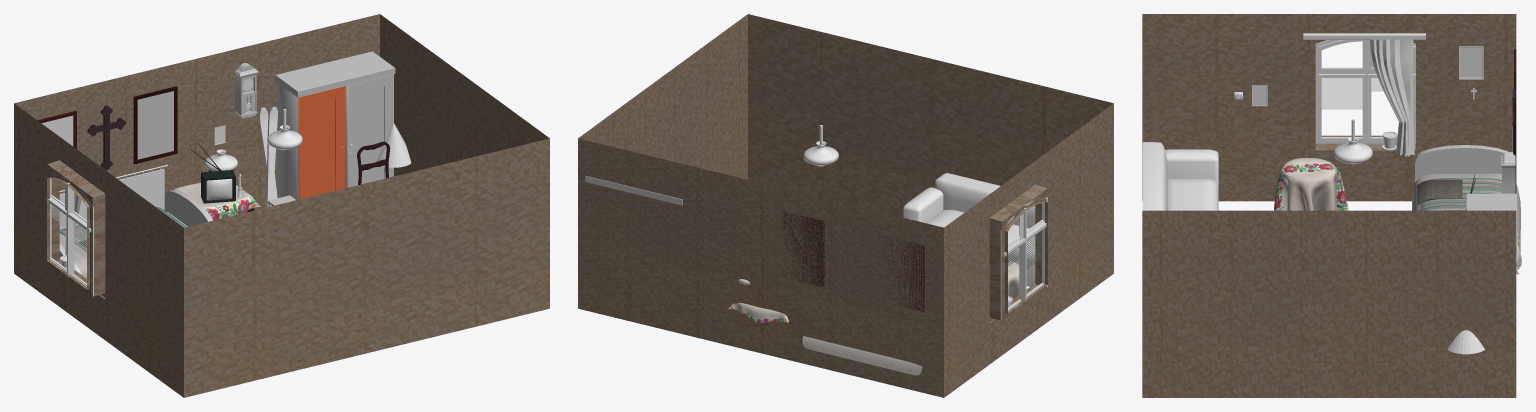
File: mieszkanie_v6.fbx
3 renders of one model, left to right at view 1: azimuth 30°, elevation 25°; view 2: azimuth 150°, elevation 25°; view 3: azimuth 270°, elevation 25°, orthographic. The views are drawn at different scales.
Parts seen in each view (by area): view 1: sciany, drzwiszafy, drzwiszafy2, sciany.002, szafa, Cube.016, szafa2, Cube.010, Cube.008, obrus2, narty, okno (+11 smaller); view 2: sciany, sofa, sciany.002, Cube.004, narzuta, Cube.015, okno, obrus2, szafa, Cube.030, Cylinder.007; view 3: sciany, sofa, firanka, obrus, okno, Cube.008, Cube.032, Cube.017, szafa, Plane.002, Cube.005, narzuta (+6 smaller).
Part boxes in pixels (<box>): sciany: <box>14,14,549,397</box>; drzwiszafy: <box>298,86,345,199</box>; drzwiszafy2: <box>346,74,393,187</box>; sciany.002: <box>47,160,105,296</box>; szafa: <box>275,51,395,97</box>; Cube.016: <box>137,91,173,159</box>; szafa2: <box>277,83,298,199</box>; Cube.010: <box>59,169,164,229</box>; Cube.008: <box>59,190,213,259</box>; obrus2: <box>174,182,260,220</box>; narty: <box>258,107,277,207</box>; okno: <box>47,174,93,296</box>; sciany: <box>578,14,1113,397</box>; sofa: <box>903,173,1035,286</box>; sciany.002: <box>989,184,1047,320</box>; Cube.004: <box>781,211,824,287</box>; narzuta: <box>802,336,922,375</box>; Cube.015: <box>882,237,924,312</box>; okno: <box>1000,197,1047,320</box>; obrus2: <box>728,302,788,322</box>; szafa: <box>585,176,682,205</box>; Cube.030: <box>1003,207,1046,301</box>; Cylinder.007: <box>803,141,838,165</box>; sciany: <box>1142,14,1516,397</box>; sofa: <box>1142,142,1218,210</box>; firanka: <box>1369,39,1414,156</box>; obrus: <box>1274,158,1348,210</box>; okno: <box>1315,40,1415,143</box>; Cube.008: <box>1414,145,1508,183</box>; Cube.032: <box>1321,78,1362,109</box>; Cube.017: <box>1420,178,1501,210</box>; szafa: <box>1466,193,1516,252</box>; Plane.002: <box>1417,179,1462,204</box>; Cube.005: <box>1303,33,1425,39</box>; narzuta: <box>1412,173,1520,252</box>.
Size of the model in its own units: 2229 by 968 by 1706.
